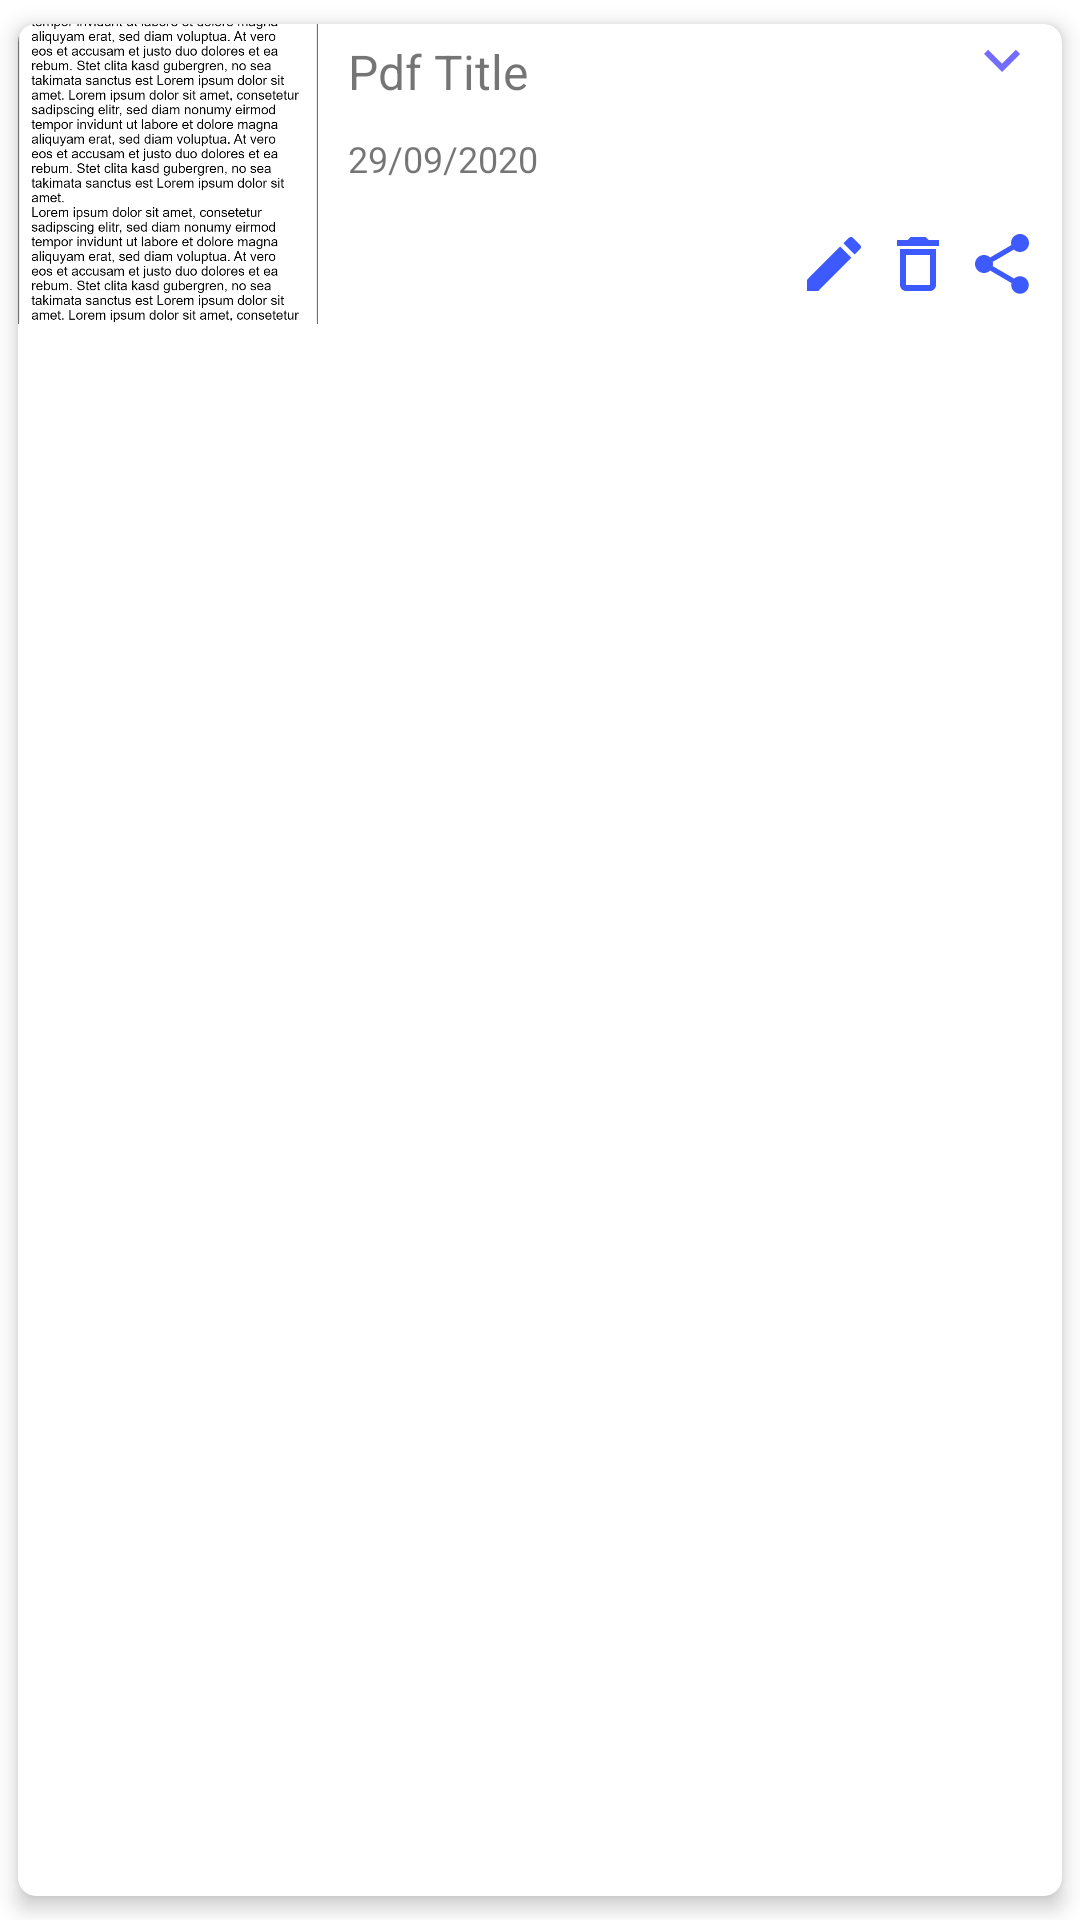

Point at icon controls on the screen. Image size 1080 x 1920, points as (x=x, y=y).
delete: (x=918, y=264)
edit: (x=834, y=264)
keyboard arrow down: (x=1002, y=61)
share: (x=1002, y=264)
